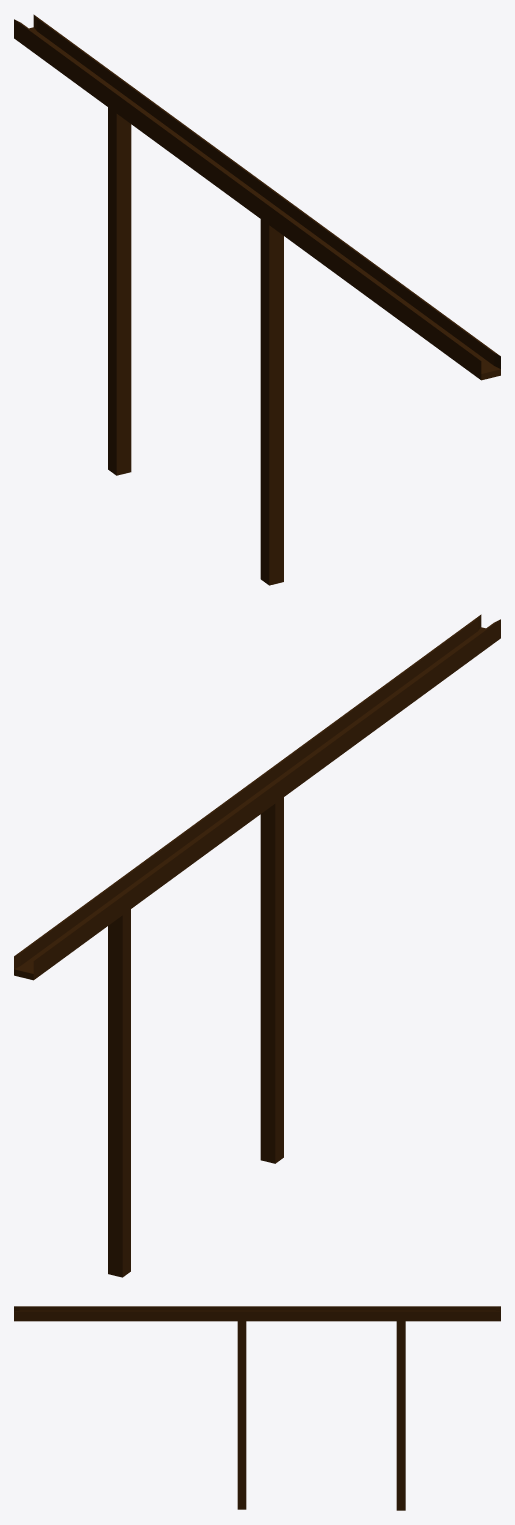
File: Bridge.fbx
3 renders of one model, top to bottom at view 1: azimuth 30°, elevation 25°; view 2: azimuth 150°, elevation 25°; view 3: azimuth 270°, elevation 25°, orthographic. The views are drawn at different scales.
Parts seen in each view (by area): view 1: Bridge; view 2: Bridge; view 3: Bridge.
Part boxes in pixels (left/top/right/bottom): Bridge: left=14, top=14, right=500, bottom=585; Bridge: left=14, top=614, right=500, bottom=1277; Bridge: left=14, top=1306, right=500, bottom=1510.
Size of the model in its own units: 36.92 by 688 by 1517.
